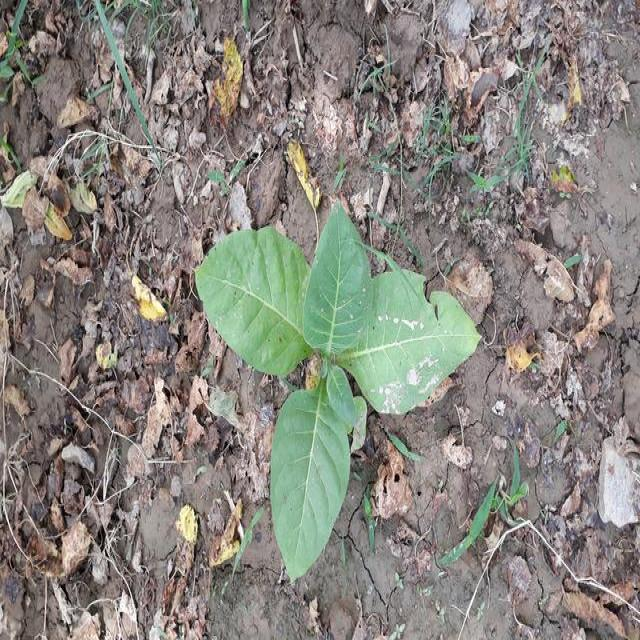crop: (194, 197, 486, 590)
